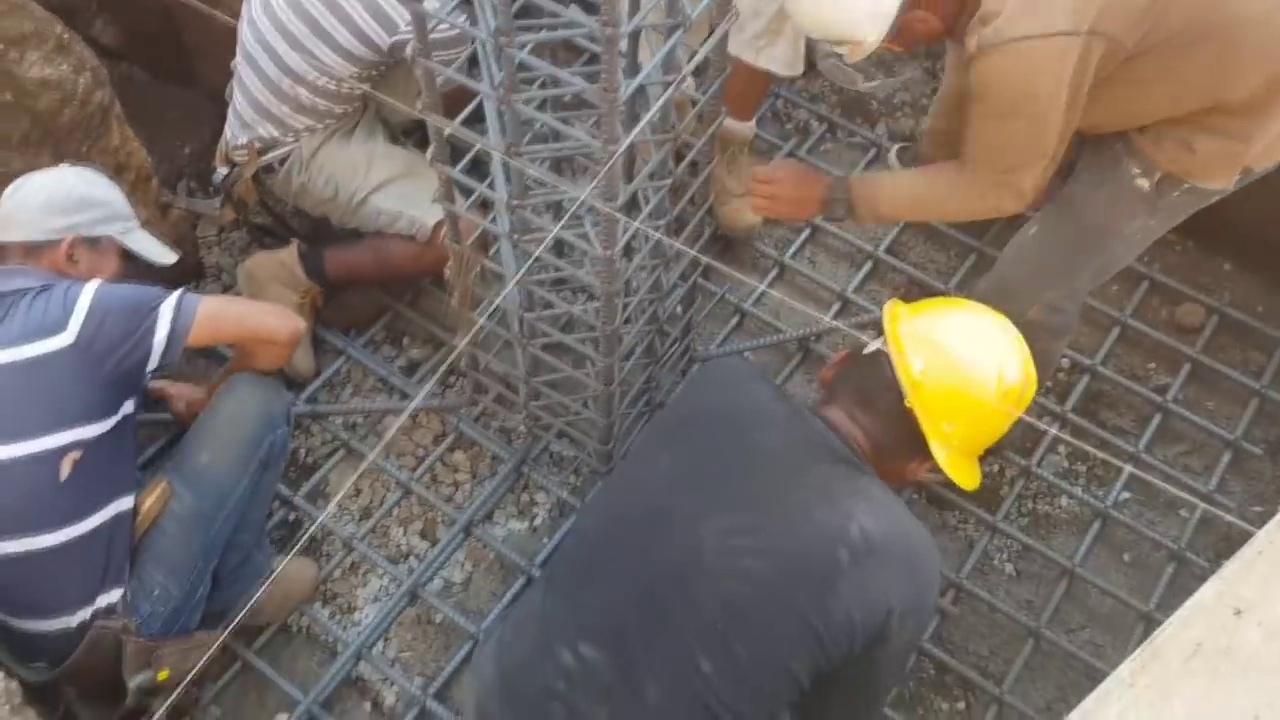helmet: (874, 299, 1047, 488), (780, 3, 900, 63)
helmet-off: (0, 169, 164, 294)
helmet-on: (819, 305, 1048, 493), (777, 6, 987, 84)
person: (452, 325, 1034, 720), (685, 2, 1258, 356), (0, 158, 312, 695), (195, 14, 505, 362)
